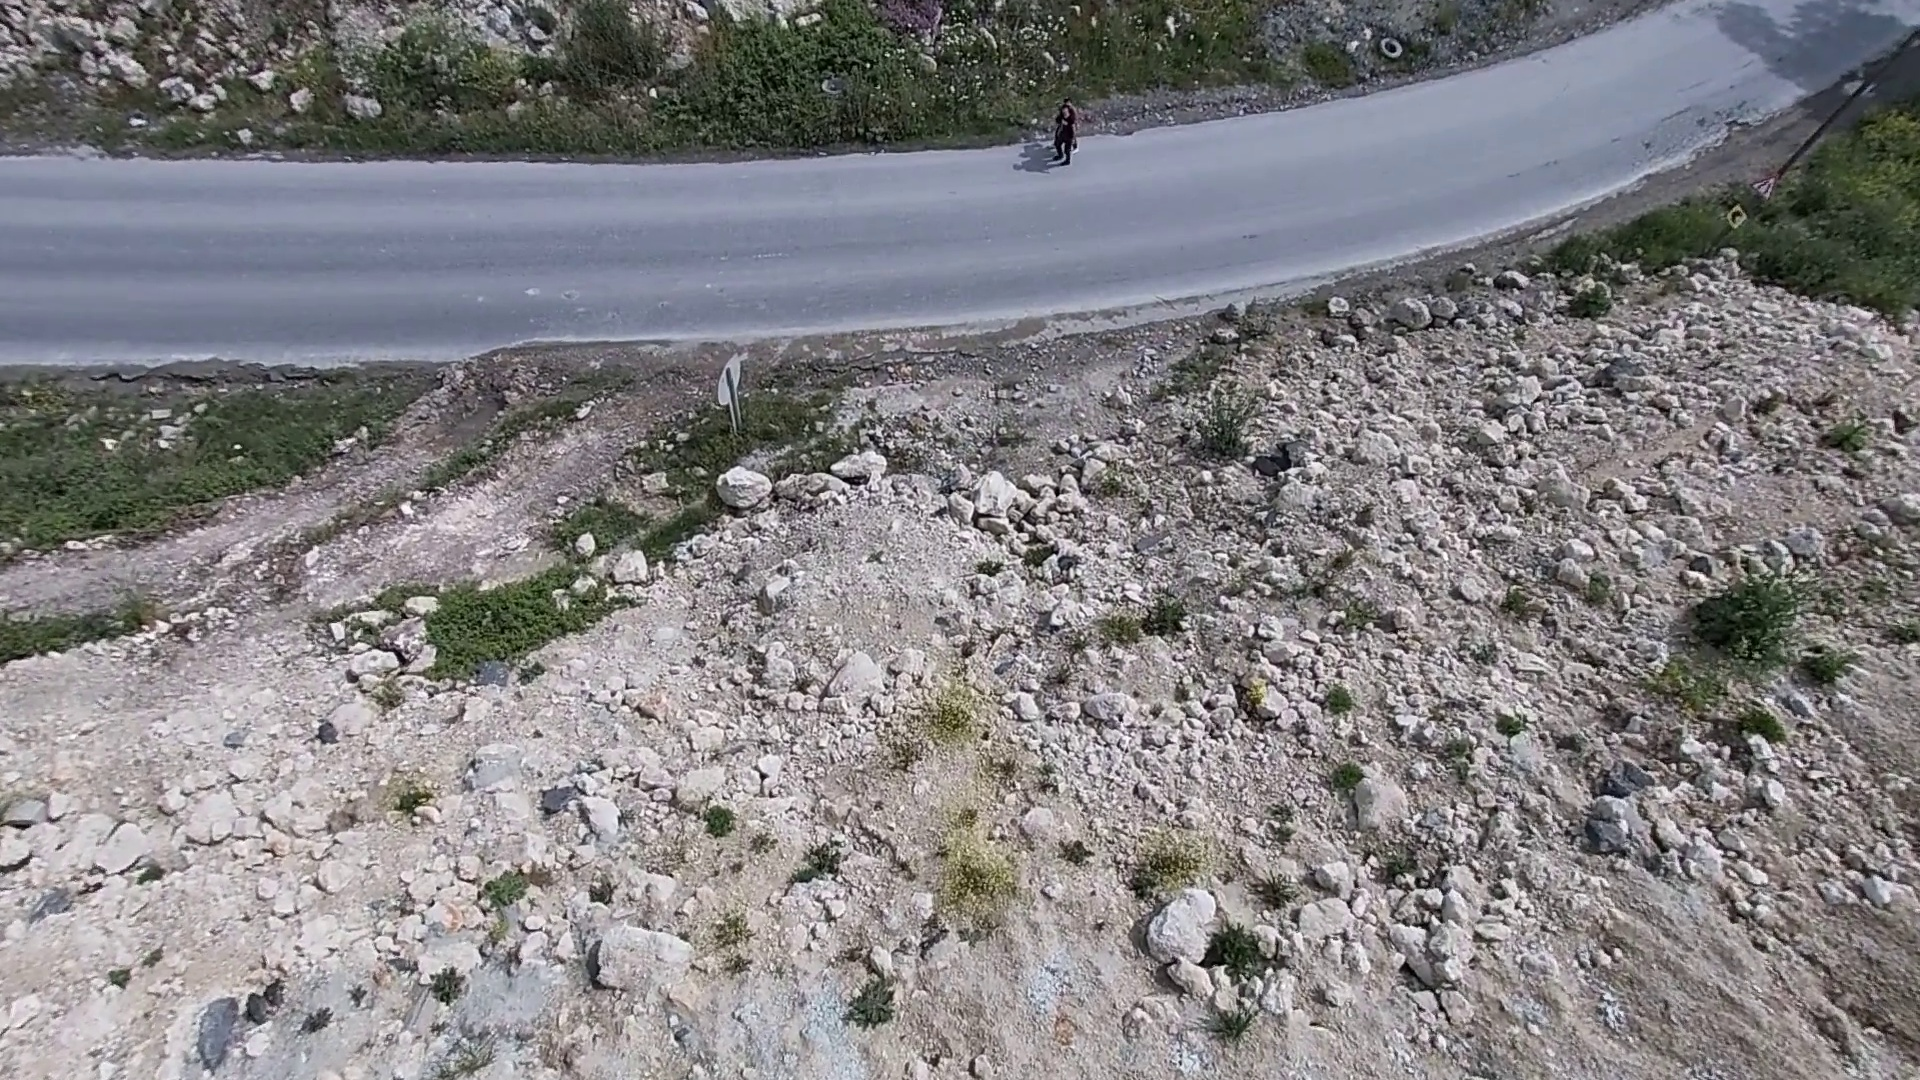insan: (1065, 90, 1089, 155), (1053, 97, 1075, 168)
